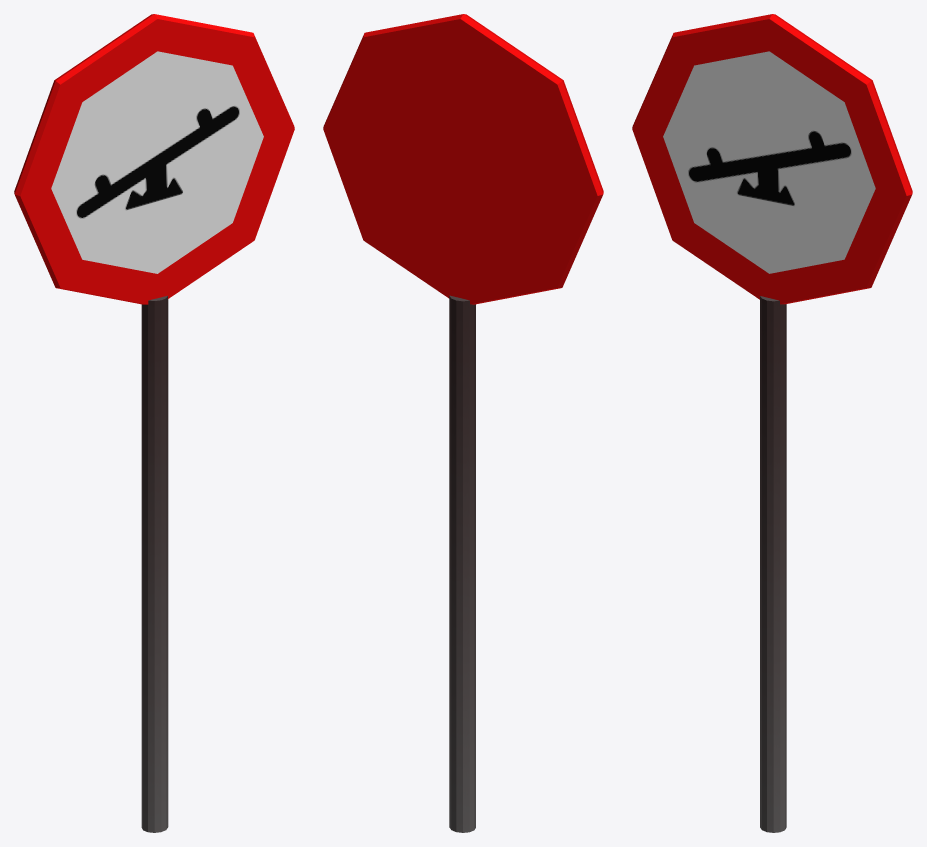
Rendered from Senal_de_Parque.fbx.
The picture shows the model from 3 angles, left to right: view 1: azimuth 30°, elevation 25°; view 2: azimuth 150°, elevation 25°; view 3: azimuth 330°, elevation 25°; orthographic projection.
Parts seen in each view (by area): view 1: Cylinder.005; view 2: Cylinder.005; view 3: Cylinder.005.
Boxes of the visible parts, x1,y1,x2,y2 form: Cylinder.005: (14, 14, 294, 832); Cylinder.005: (323, 14, 603, 832); Cylinder.005: (632, 14, 912, 832).
Bounding box in the file's own units: 726 × 2017 × 57.38.
2 materials, 2 textured.
